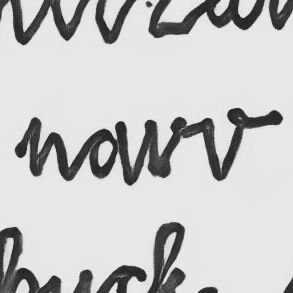a: (86, 119, 134, 182)
n: (24, 116, 71, 182)
v: (196, 107, 252, 183), (140, 115, 186, 179)
